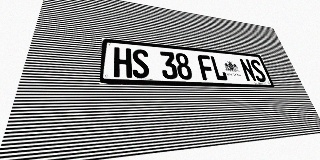3: (160, 51, 178, 79)
8: (174, 52, 193, 80)
F: (197, 54, 216, 81)
H: (114, 47, 132, 78)
L: (209, 56, 228, 81)
N: (238, 58, 257, 82)
S: (132, 49, 150, 78), (249, 59, 268, 82)
